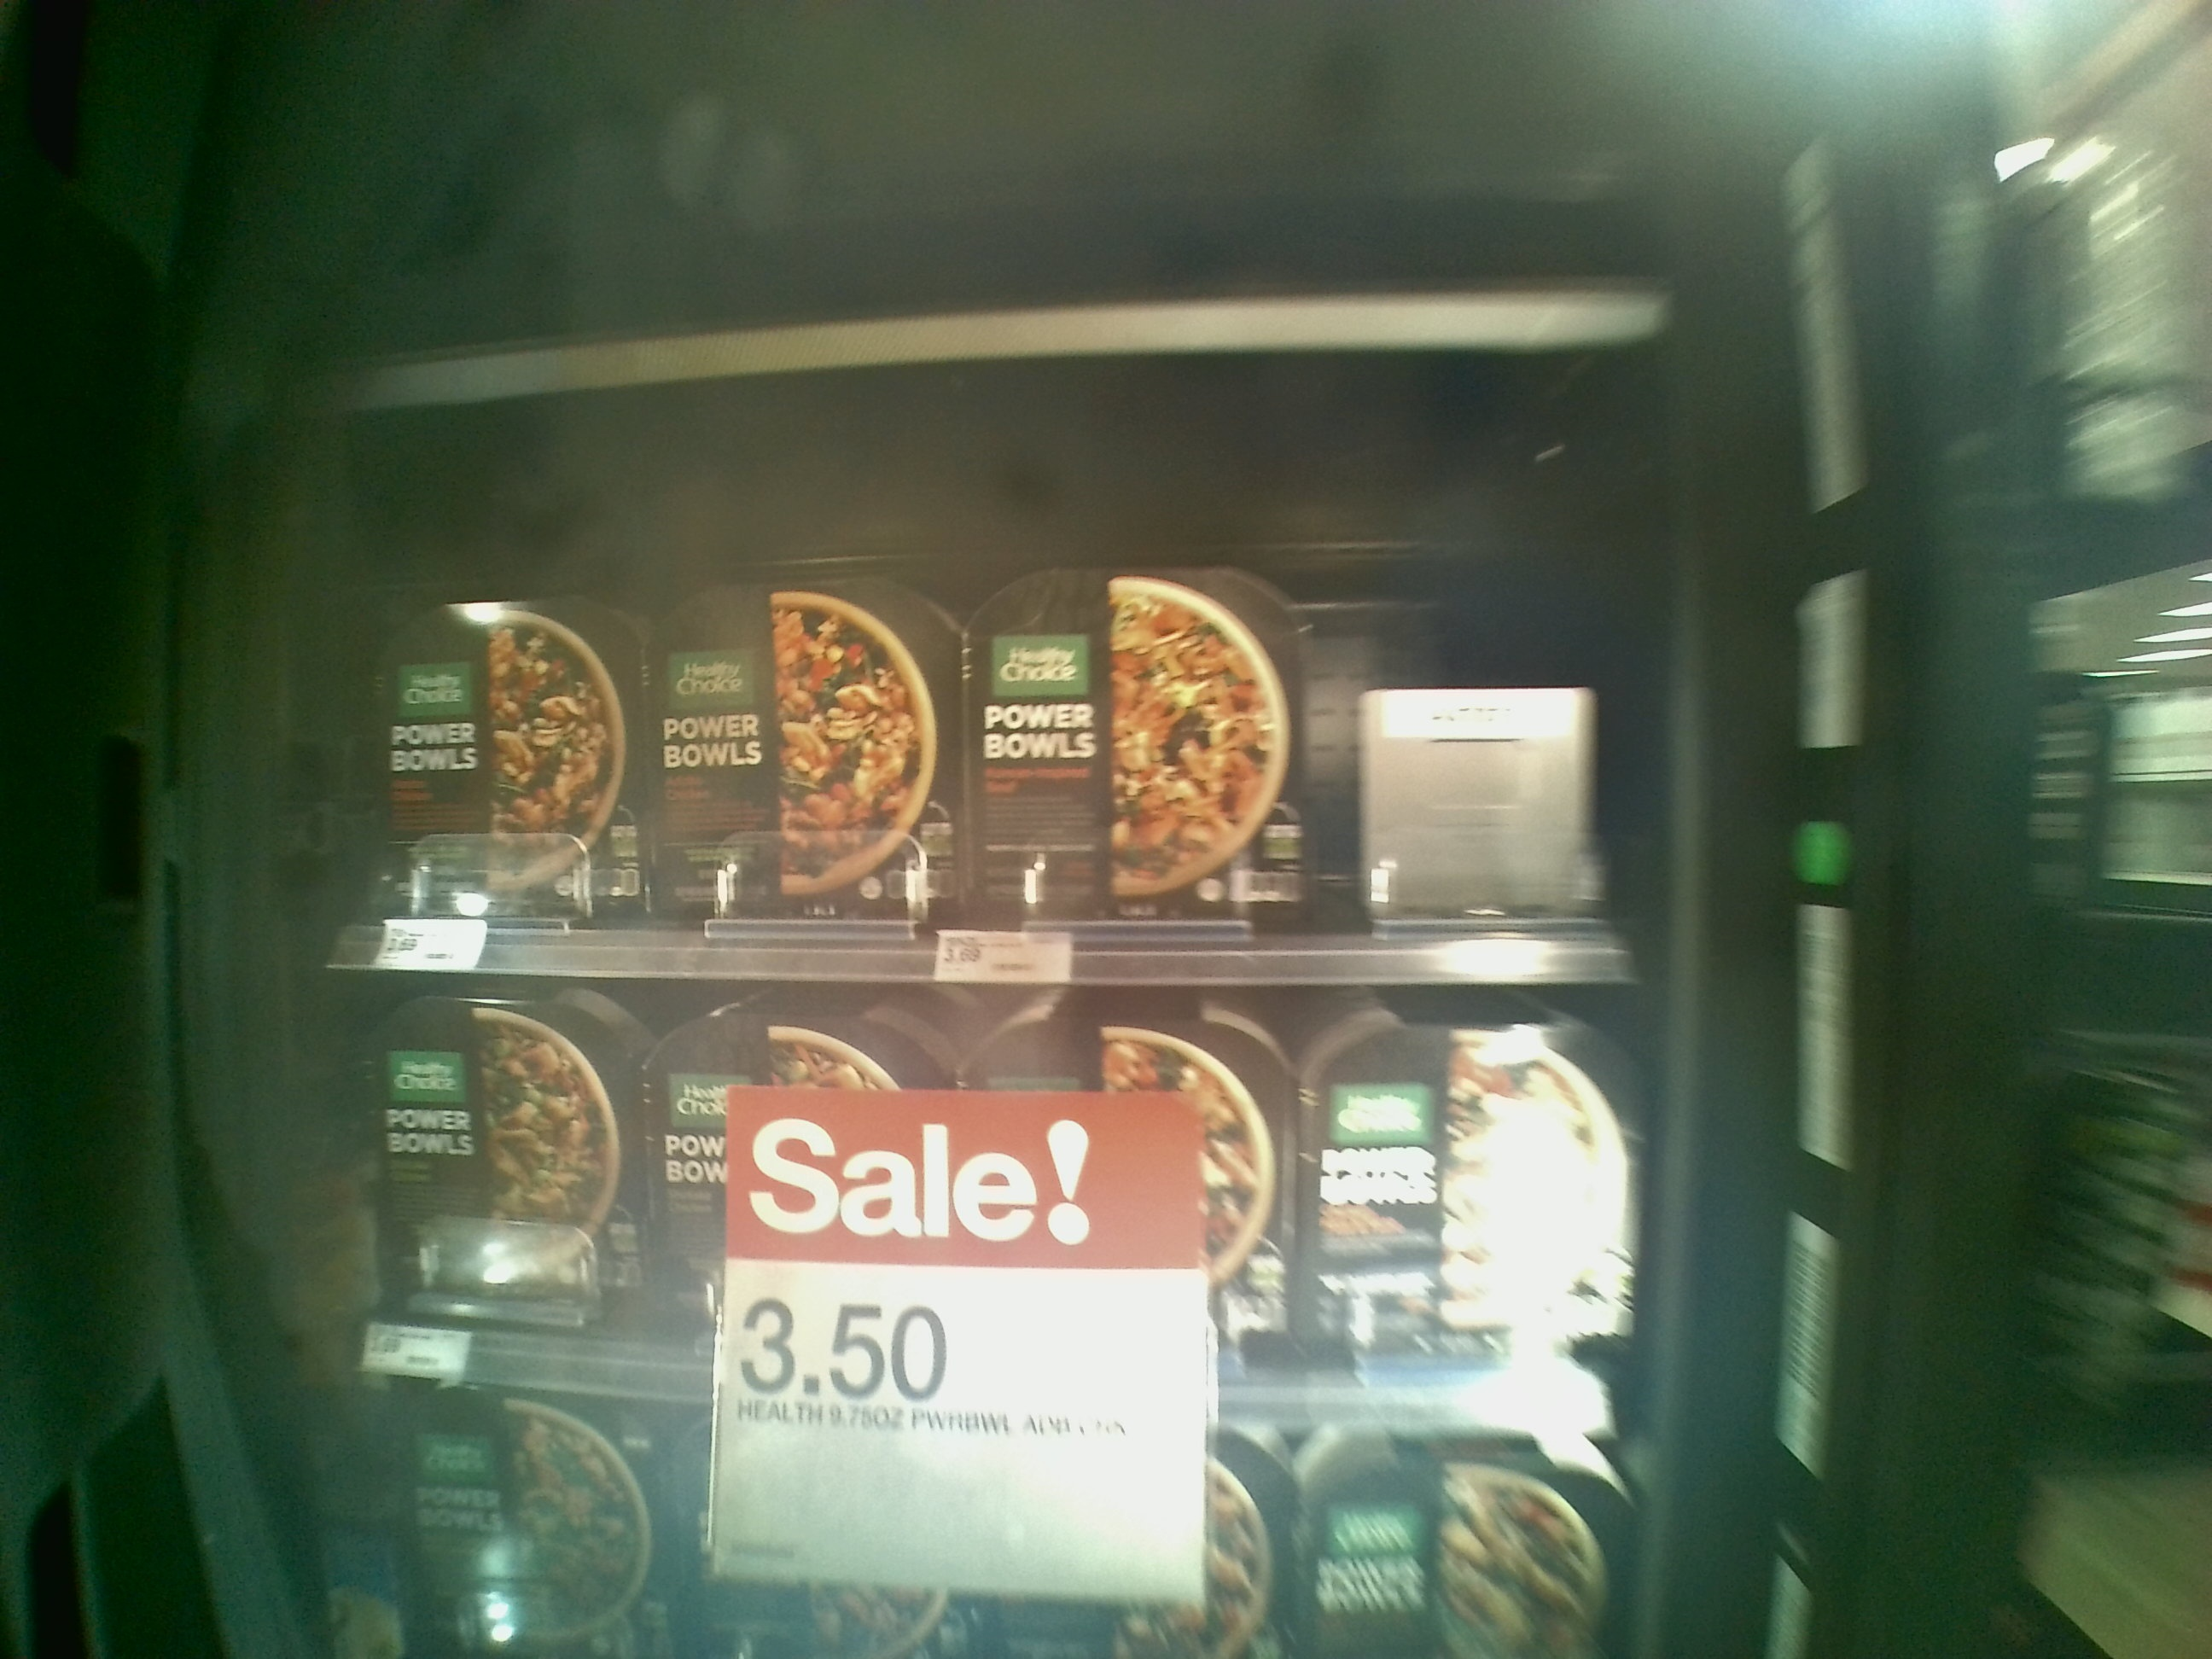shelf: (338, 328, 1642, 972), (354, 953, 1641, 1422)
